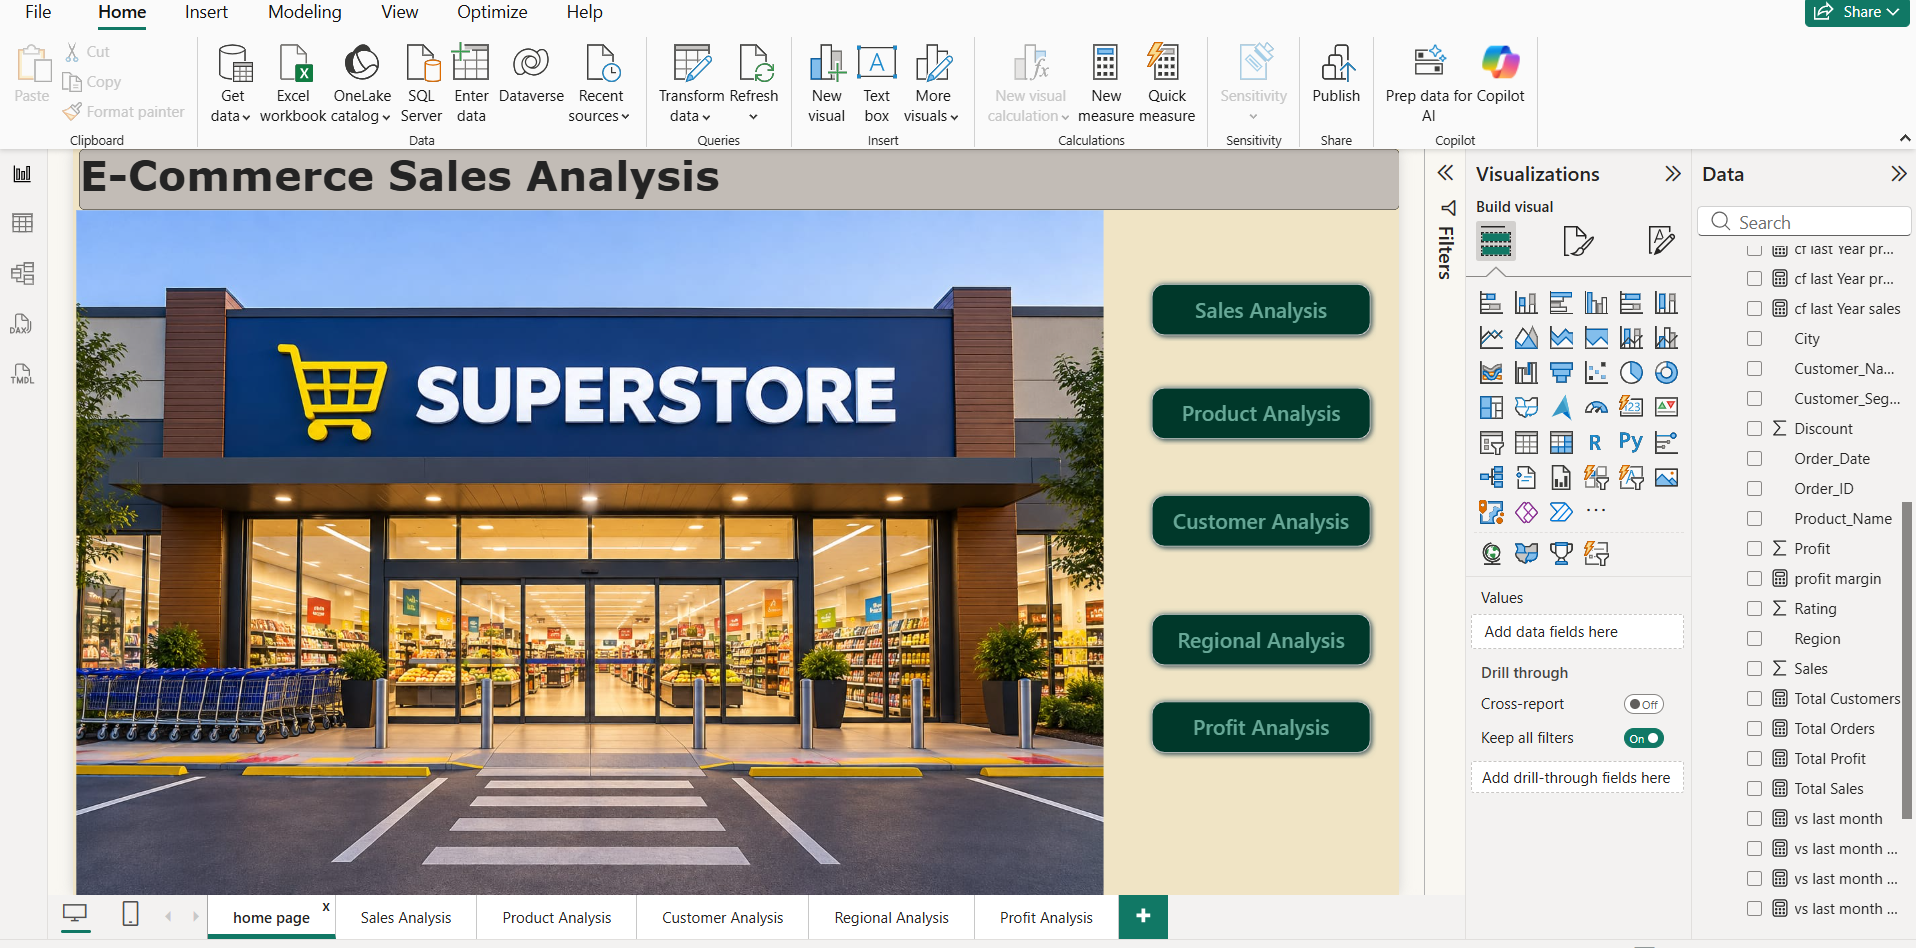

What the dashboard file says about the page in this screenshot:
{"tool":"powerbi","page":{"name":"home page","canvas":[1920,1080],"ordinal":0},"visuals":[{"type":"textbox","title":"E-Commerce Sales Analysis","box":[9.2,0,1911.3,88],"z":0},{"type":"image","box":[0,88.7,1496.6,991.7],"z":1000},{"type":"actionButton","box":[1552.7,186.4,334.8,92.3],"z":2000},{"type":"actionButton","box":[1552.7,336.6,334.8,92.3],"z":3000},{"type":"actionButton","box":[1552.7,492.2,334.8,92.3],"z":4000},{"type":"actionButton","box":[1552.7,664.1,334.8,92.3],"z":5000},{"type":"actionButton","box":[1552.7,790.8,334.8,92.3],"z":6000}]}

Visuals, with their boxes on the page's 1920x1080 design canvas (x1, y1, x2, y2). These are canvas units, not pixel positions in the 1916x948 screenshot, which may show the page scaled, cropped or inside an application window:
"E-Commerce Sales Analysis" textbox: {"x1": 9, "y1": 0, "x2": 1920, "y2": 88}
image: {"x1": 0, "y1": 89, "x2": 1497, "y2": 1080}
actionButton: {"x1": 1553, "y1": 186, "x2": 1888, "y2": 279}
actionButton: {"x1": 1553, "y1": 337, "x2": 1888, "y2": 429}
actionButton: {"x1": 1553, "y1": 492, "x2": 1888, "y2": 584}
actionButton: {"x1": 1553, "y1": 664, "x2": 1888, "y2": 756}
actionButton: {"x1": 1553, "y1": 791, "x2": 1888, "y2": 883}
